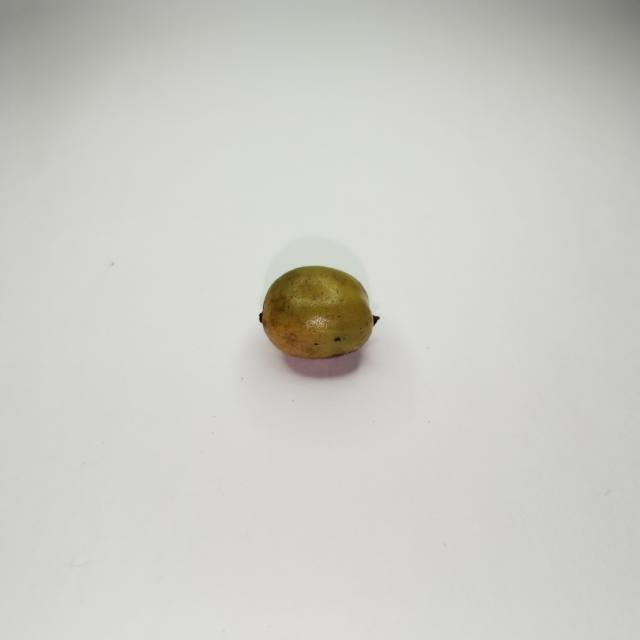Sano: (259, 266, 378, 359)
